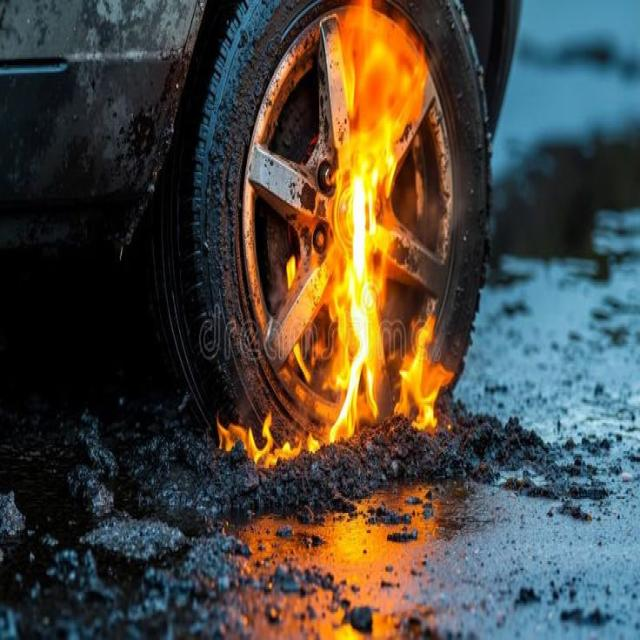fire: (285, 0, 454, 441), (215, 412, 301, 469)
